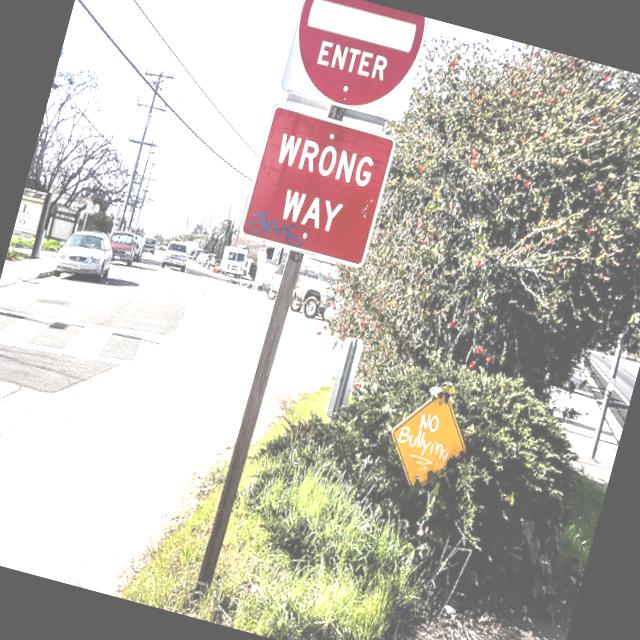Vehicle: (50, 222, 118, 288), (290, 274, 340, 324), (316, 286, 350, 328), (104, 227, 139, 266), (158, 238, 192, 274), (218, 242, 250, 278), (264, 261, 285, 301), (126, 233, 146, 262), (138, 234, 159, 260), (194, 252, 206, 266)
